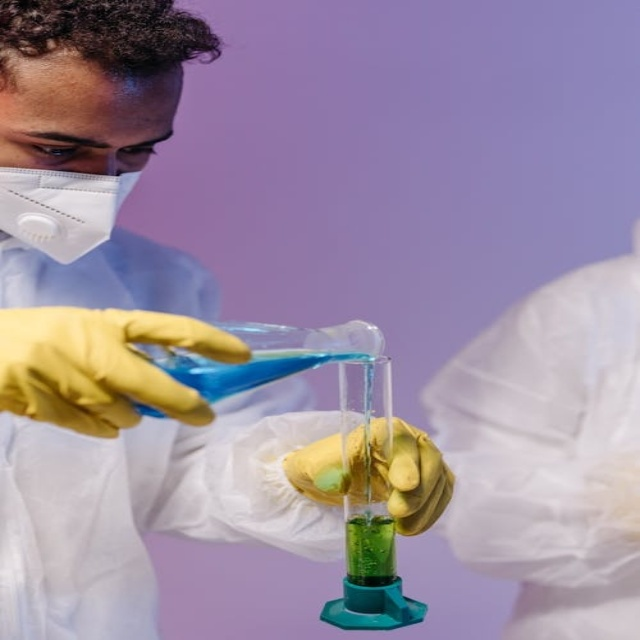Guantes: (1, 304, 247, 437), (282, 416, 456, 537)
Mascara: (0, 160, 142, 266)
Sin_gafas: (5, 113, 179, 173)
